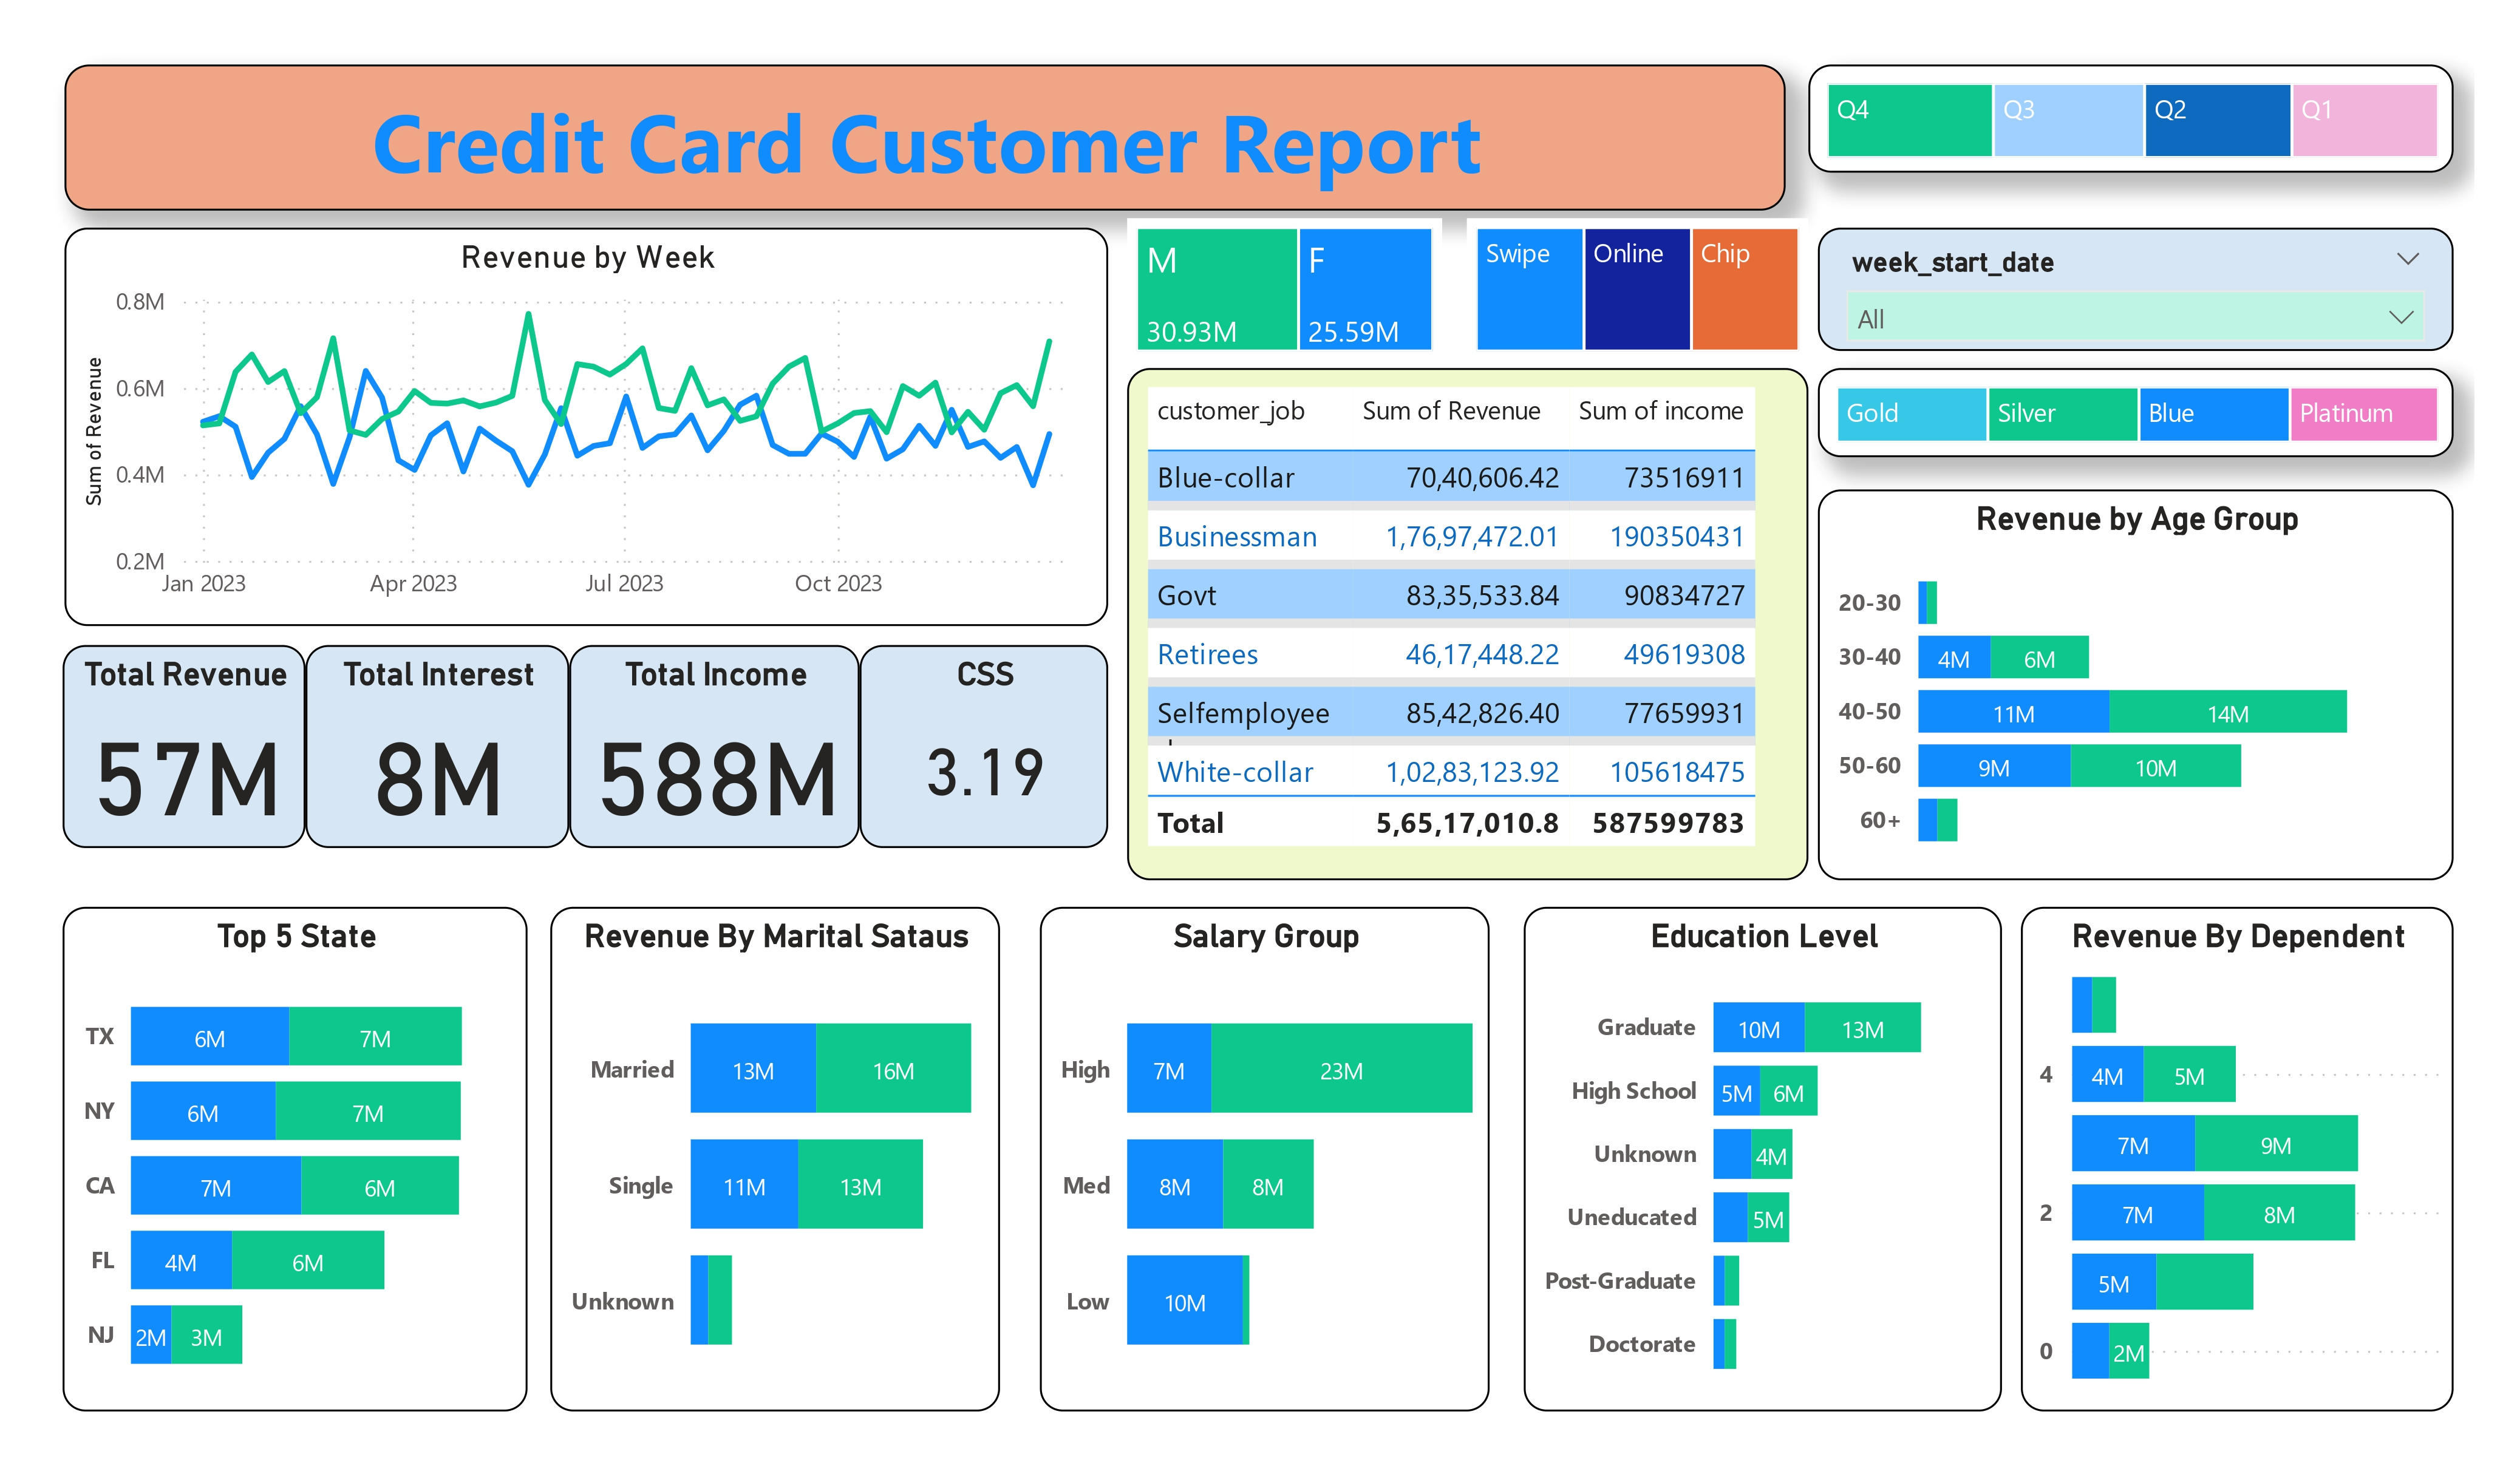

Layout of this report page (visuals, bound fields, positions):
{"tool":"powerbi","page":{"name":"CC Customer","canvas":[1280,720],"ordinal":2},"visuals":[{"type":"textbox","box":[10,10,907.1,77.1],"z":0},{"type":"barChart","title":"Salary Group","fields":{"Category":["public cust_detail.IncomeGroup"],"Y":["Sum(public cc_detail.Revenue)"],"Series":["public cust_detail.gender"]},"box":[524.3,454.3,237.1,265.7],"z":1000},{"type":"tableEx","fields":{"Values":["public cust_detail.customer_job","Sum(public cc_detail.Revenue)","Sum(public cust_detail.income)"]},"box":[570,170,358.6,270],"z":2000},{"type":"card","title":"Total Revenue","fields":{"Values":["Sum(public cc_detail.Revenue)"]},"box":[8.6,315.7,128.6,107.1],"z":3000},{"type":"card","title":"Total Interest","fields":{"Values":["Sum(public cc_detail.interest_earned)"]},"box":[137.1,315.7,138.6,107.1],"z":4000},{"type":"card","title":"Total Income","fields":{"Values":["Sum(public cust_detail.income)"]},"box":[275.7,315.7,152.9,107.1],"z":5000},{"type":"card","title":"CSS","fields":{"Values":["Avg(public cust_detail.cust_satisfaction_score)"]},"box":[428.6,315.7,131.4,107.1],"z":6000},{"type":"slicer","fields":{"Values":["public cc_detail.week_start_date"]},"box":[934.3,95.7,334.3,65.7],"z":7000},{"type":"treemap","fields":{"Group":["public cc_detail.qtr","public cust_detail.gender"],"Values":["Avg(public cc_detail.client_num)"]},"box":[928.6,10,340,57.1],"z":8000},{"type":"treemap","fields":{"Group":["public cc_detail.card_category"],"Values":["Avg(public cc_detail.client_num)"]},"box":[934.3,170,334.3,47.1],"z":9000},{"type":"treemap","fields":{"Group":["public cc_detail.use_chip"],"Values":["Avg(public cc_detail.client_num)"]},"box":[748.6,91.4,180,74.3],"z":10000},{"type":"lineChart","title":"Revenue by Week","fields":{"Y":["Sum(public cc_detail.Revenue)"],"Series":["public cust_detail.gender"],"Category":["public cc_detail.week_start_date.Variation.Date Hierarchy.Year","public cc_detail.week_start_date.Variation.Date Hierarchy.Quarter","public cc_detail.week_start_date.Variation.Date Hierarchy.Month","public cc_detail.week_start_date.Variation.Date Hierarchy.Day"]},"box":[10,95.7,550,210],"z":11000},{"type":"treemap","fields":{"Group":["public cust_detail.gender"],"Values":["Sum(public cc_detail.Revenue)"]},"box":[570,91.4,165.7,74.3],"z":12000},{"type":"barChart","title":"Revenue by Age Group","fields":{"Category":["public cust_detail.AgeGroup"],"Y":["Sum(public cc_detail.Revenue)"],"Series":["public cust_detail.gender"]},"box":[934.3,234.3,334.3,205.7],"z":13000},{"type":"barChart","title":"Education Level","fields":{"Category":["public cust_detail.education_level"],"Y":["Sum(public cc_detail.Revenue)"],"Series":["public cust_detail.gender"]},"box":[778.6,454.3,252.9,265.7],"z":14000},{"type":"barChart","title":"Revenue By Marital Sataus","fields":{"Y":["Sum(public cc_detail.Revenue)"],"Category":["public cust_detail.marital_status"],"Series":["public cust_detail.gender"]},"box":[265.7,454.3,237.1,265.7],"z":15000},{"type":"barChart","title":"Revenue By Dependent","fields":{"Category":["public cust_detail.dependent_count"],"Y":["Sum(public cc_detail.Revenue)"],"Series":["public cust_detail.gender"]},"box":[1041.4,454.3,227.1,265.7],"z":16000},{"type":"barChart","title":"Top 5 State","fields":{"Category":["public cust_detail.state_cd"],"Y":["Sum(public cc_detail.Revenue)"],"Series":["public cust_detail.gender"]},"box":[8.6,454.3,245.7,265.7],"z":17000}]}

Visuals, with their boxes on the page's 1280x720 design canvas (x1, y1, x2, y2). These are canvas units, not pixel positions in the 2520x1457 screenshot, which may show the page scaled, cropped or inside an application window:
textbox: crop(10, 10, 917, 87)
"Salary Group" barChart: crop(524, 454, 761, 720)
tableEx - public cust_detail.customer_job x Sum(public cc_detail.Revenue): crop(570, 170, 929, 440)
"Total Revenue" card: crop(9, 316, 137, 423)
"Total Interest" card: crop(137, 316, 276, 423)
"Total Income" card: crop(276, 316, 429, 423)
"CSS" card: crop(429, 316, 560, 423)
slicer - public cc_detail.week_start_date: crop(934, 96, 1269, 161)
treemap - public cc_detail.qtr x public cust_detail.gender: crop(929, 10, 1269, 67)
treemap - public cc_detail.card_category x Avg(public cc_detail.client_num): crop(934, 170, 1269, 217)
treemap - public cc_detail.use_chip x Avg(public cc_detail.client_num): crop(749, 91, 929, 166)
"Revenue by Week" lineChart: crop(10, 96, 560, 306)
treemap - public cust_detail.gender x Sum(public cc_detail.Revenue): crop(570, 91, 736, 166)
"Revenue by Age Group" barChart: crop(934, 234, 1269, 440)
"Education Level" barChart: crop(779, 454, 1032, 720)
"Revenue By Marital Sataus" barChart: crop(266, 454, 503, 720)
"Revenue By Dependent" barChart: crop(1041, 454, 1268, 720)
"Top 5 State" barChart: crop(9, 454, 254, 720)
